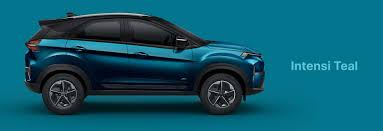Tata Nexon: (25, 9, 265, 115)
